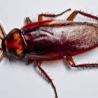cockroach: (1, 14, 98, 66)
